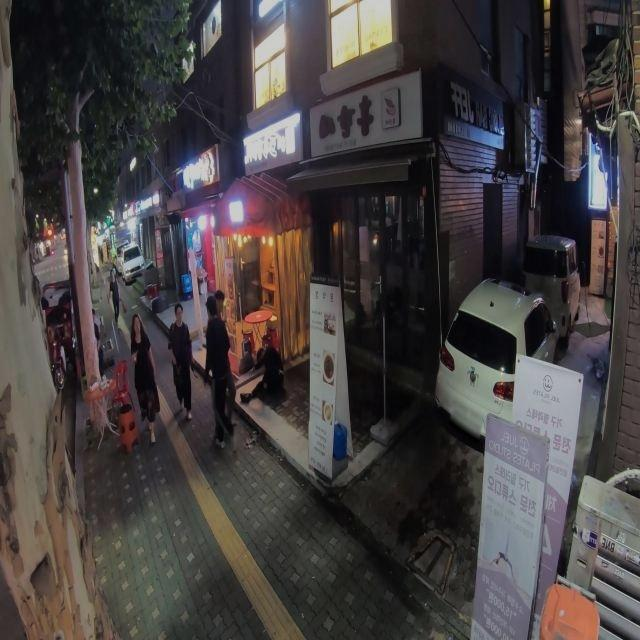non-fight: (202, 296, 238, 447), (130, 315, 165, 443), (168, 301, 196, 420)
